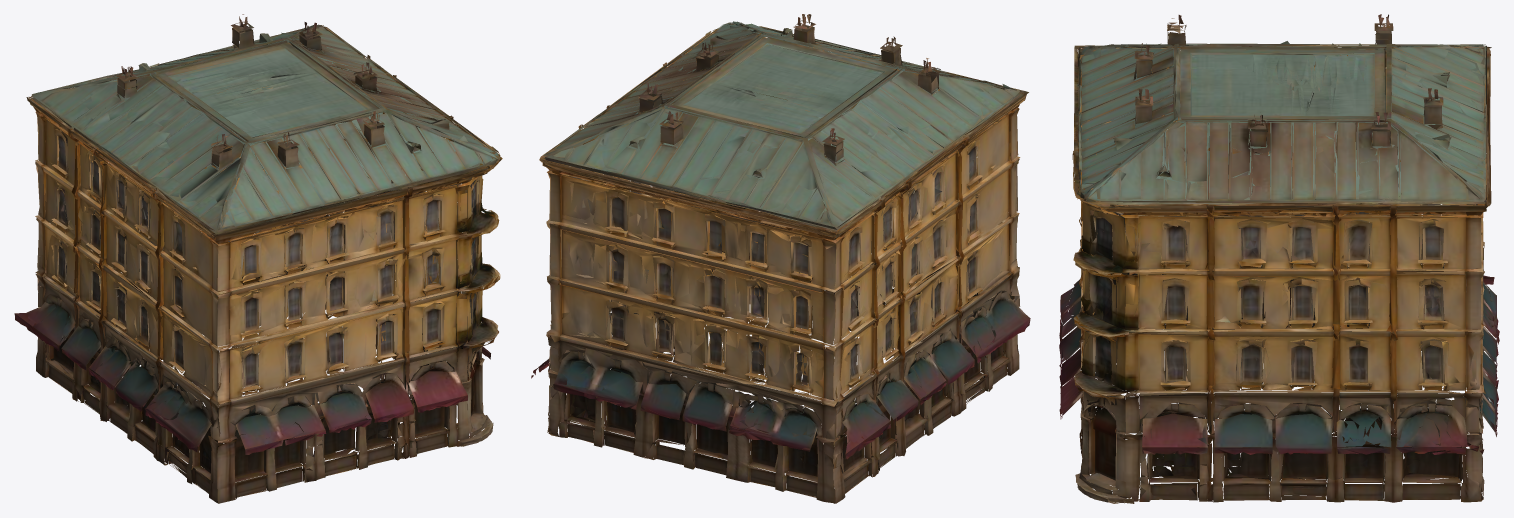
File: ch03_perimeter_corner_arcade.glb
The picture shows the model from 3 angles, left to right: view 1: azimuth 30°, elevation 25°; view 2: azimuth 150°, elevation 25°; view 3: azimuth 270°, elevation 25°; orthographic projection. The views are drawn at different scales.
Parts seen in each view (by area): view 1: material; view 2: material; view 3: material.
Boxes of the visible parts, x1,y1,x2,y2 form: material: (14,14,502,503); material: (531,14,1030,503); material: (1059,14,1499,503).
Bounding box in the file's own units: 0.7247 × 0.7107 × 0.7882.
1 material, 1 textured.
